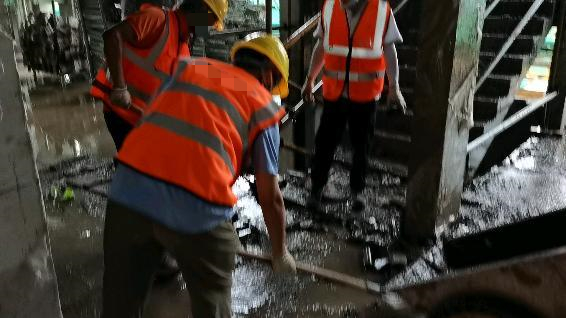helmet: (230, 29, 294, 93), (199, 1, 230, 21)
person: (111, 35, 319, 315), (314, 1, 408, 215), (92, 1, 231, 143)
vest: (126, 58, 279, 207), (103, 9, 189, 116), (319, 1, 388, 101)
